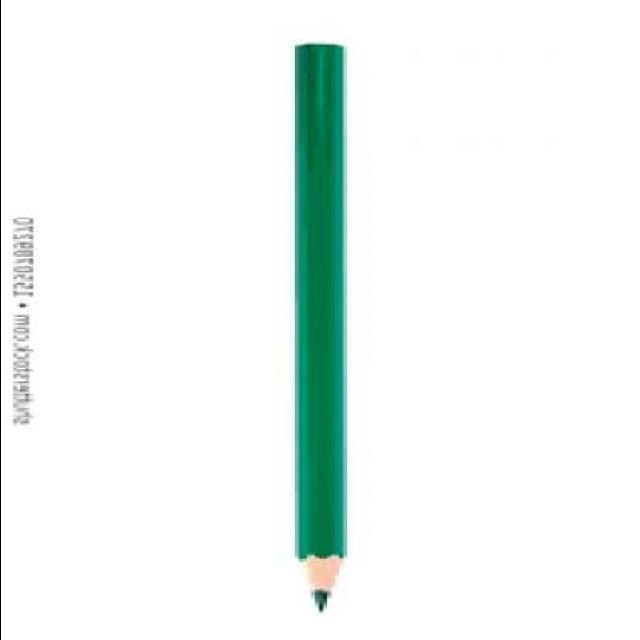Pencil: (269, 529, 371, 620)
